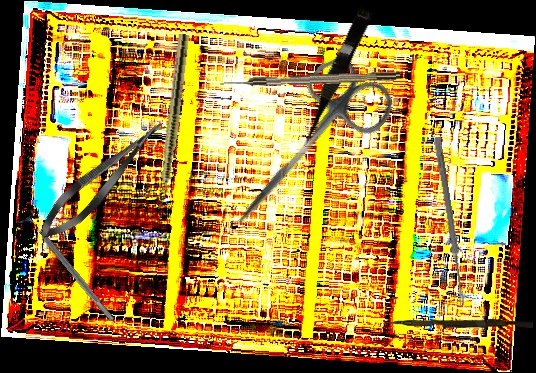Fixation Ring: (15, 207, 121, 327)
Handpiece: (154, 33, 191, 211)
Hook Surgical: (219, 71, 401, 88)
Iris Scissors: (206, 46, 403, 256)
Micro Scissor: (30, 111, 175, 248), (294, 4, 375, 149)
Pusher: (385, 317, 534, 331)
Surgical Spoon: (432, 136, 468, 308)
